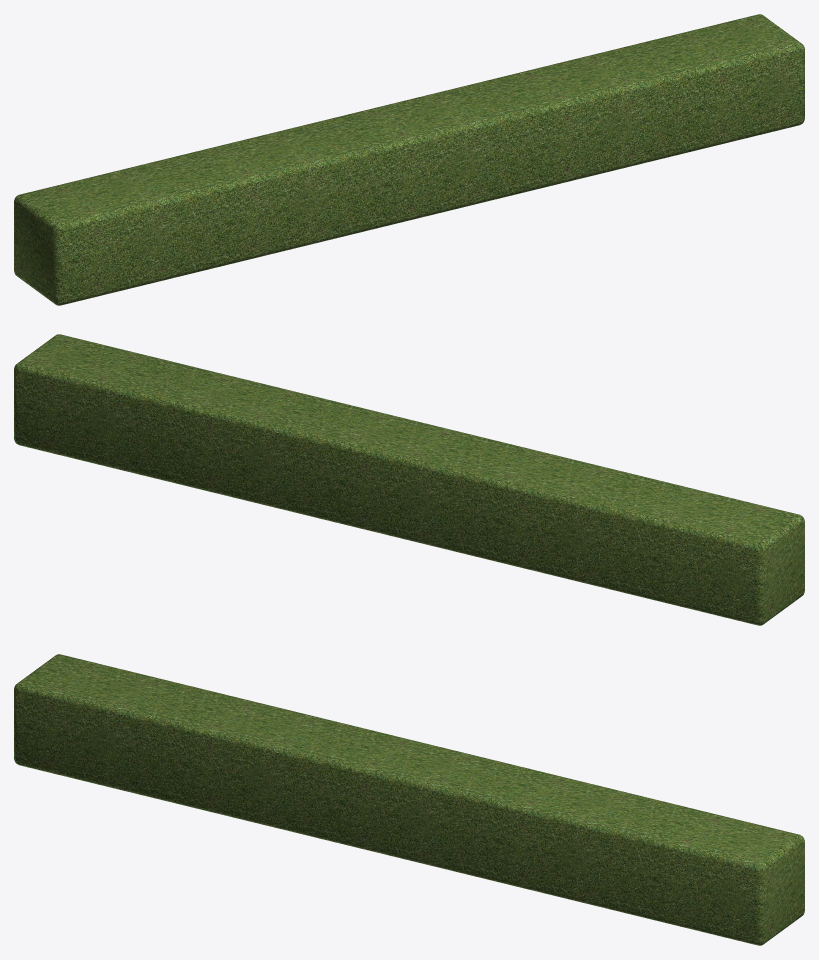
The model's file is Hedge02_3.FBX.
3 renders of one model, top to bottom at view 1: azimuth 30°, elevation 25°; view 2: azimuth 150°, elevation 25°; view 3: azimuth 330°, elevation 25°, orthographic.
Visible parts, largest first — view 1: Hedge02_3; view 2: Hedge02_3; view 3: Hedge02_3.
Part boxes in pixels (box(x1,y1,x2,y2)): Hedge02_3: box(14, 14, 804, 305); Hedge02_3: box(14, 334, 804, 625); Hedge02_3: box(14, 654, 804, 945).
Bounding box in the file's own units: 12 × 1.25 × 1.25.
